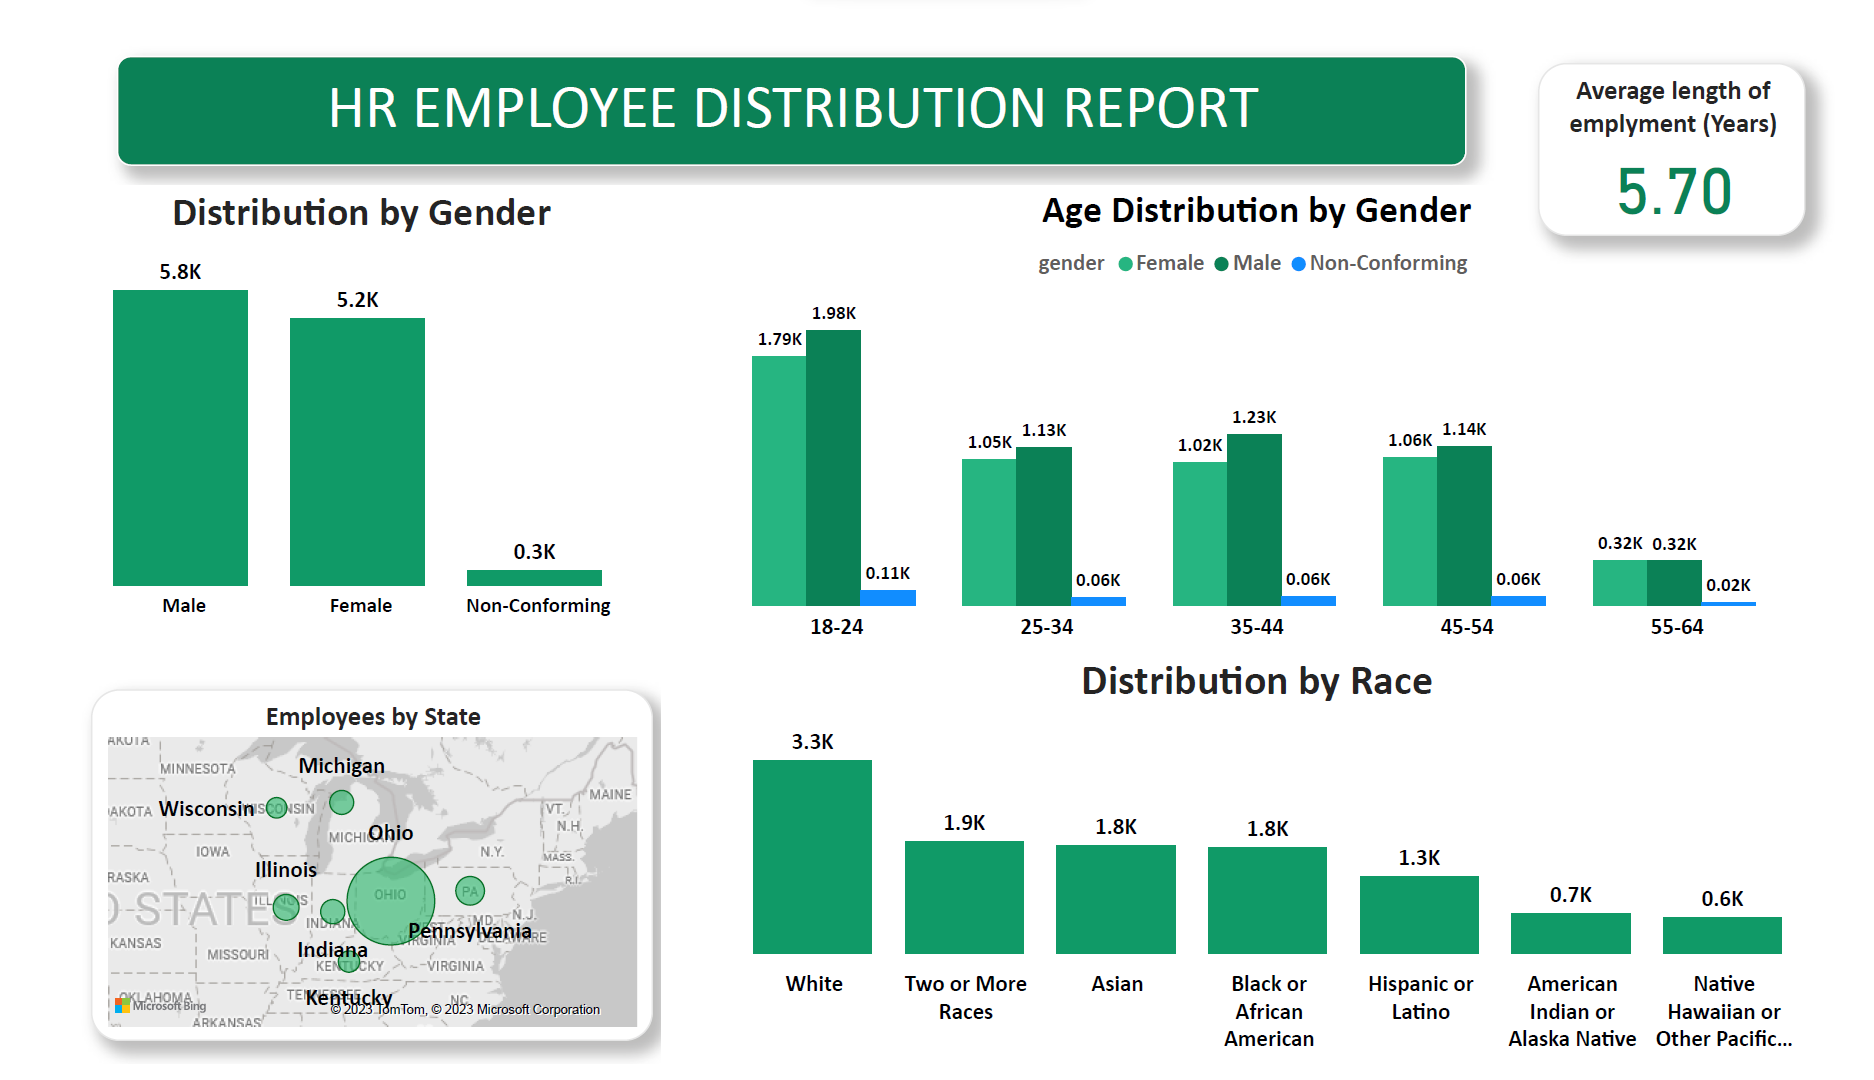

Layout of this report page (visuals, bound fields, positions):
{"tool":"powerbi","page":{"name":"Page 1","canvas":[1280,720],"ordinal":0},"visuals":[{"type":"textbox","box":[66,14.7,943.7,77],"z":0},{"type":"columnChart","title":"Distribution by Gender","fields":{"Category":["gender.gender"],"Y":["Sum(gender.count)"]},"box":[8.6,106.3,456,310.5],"z":1000},{"type":"map","title":"Employees by State","fields":{"Size":["Sum(state_distribution.count)"],"Category":["state_distribution.location_state"]},"box":[47.7,458.4,393.6,245.7],"z":3000},{"type":"clusteredColumnChart","title":"Distribution by Race","fields":{"Category":["race.race"],"Y":["Sum(race.count)"]},"box":[447.4,432.7,832.5,287.3],"z":4000},{"type":"clusteredColumnChart","title":"Age Distribution by Gender","fields":{"Category":["age_group_by_gender.age_group"],"Y":["Sum(age_group_by_gender.count)"],"Series":["age_group_by_gender.gender"]},"box":[447.4,106.3,832.5,326.4],"z":5000},{"type":"card","title":"Average length of emplyment (Years)","fields":{"Values":["Sum(avg_length_employment.avg_length_employment)"]},"box":[1059.8,19.6,187,121],"z":6000}]}

Visuals, with their boxes in screenshot pixels (x1, y1, x2, y2), scaled from the page's 1280x720 canvas onto the 1874x1080 screenshot:
textbox: <box>97,22,1478,138</box>
"Distribution by Gender" columnChart: <box>13,159,680,625</box>
"Employees by State" map: <box>70,688,646,1056</box>
"Distribution by Race" clusteredColumnChart: <box>655,649,1873,1079</box>
"Age Distribution by Gender" clusteredColumnChart: <box>655,159,1873,649</box>
"Average length of emplyment (Years)" card: <box>1552,29,1825,211</box>
